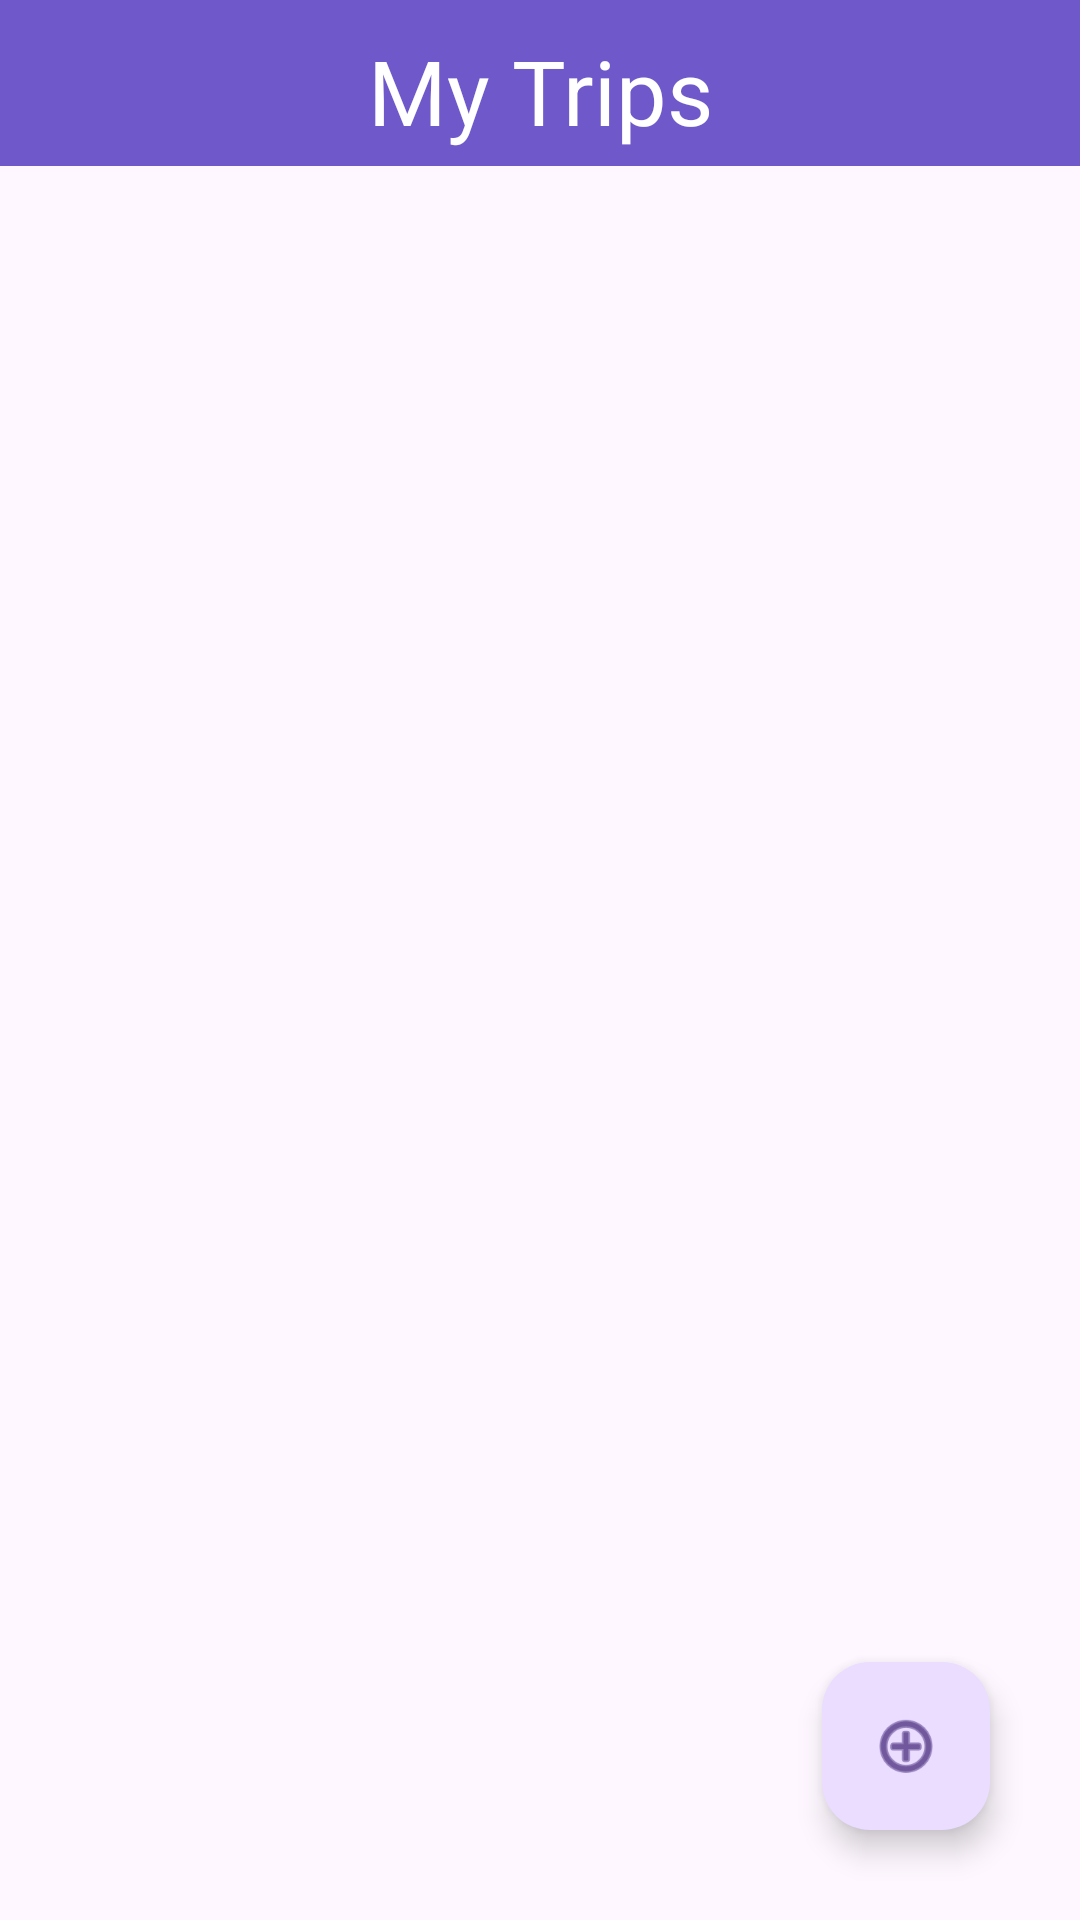

Where icons sit on this 1080w x 1920h app screen, as (x1=x1, y1=y1, x2=x2, y2=y2):
Add new trip: (x1=822, y1=1662, x2=990, y2=1830)
